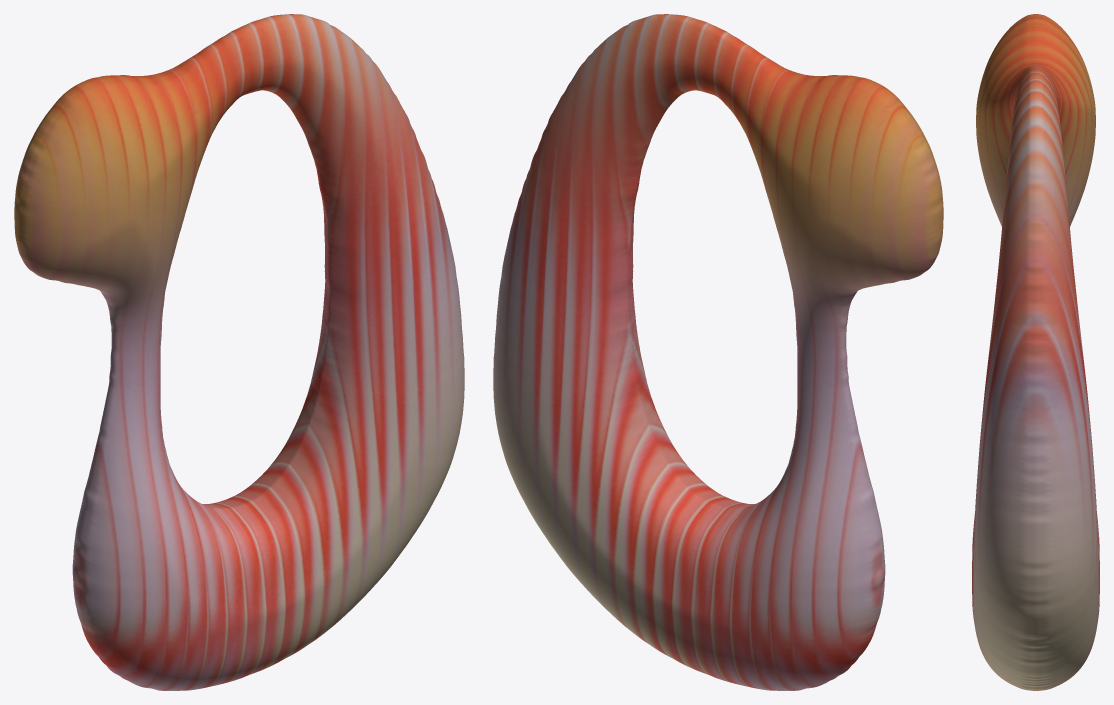
Rendered from letterO.glb.
3 renders of one model, left to right at view 1: azimuth 30°, elevation 25°; view 2: azimuth 150°, elevation 25°; view 3: azimuth 270°, elevation 25°, orthographic. The views are drawn at different scales.
Parts seen in each view (by area): view 1: Geometry; view 2: Geometry; view 3: Geometry.
Boxes of the visible parts, x1,y1,x2,y2 form: Geometry: (14, 14, 464, 690); Geometry: (493, 14, 943, 690); Geometry: (972, 14, 1099, 690).
Size of the model in its own units: 0.7101 by 1 by 0.1878.
1 material, 1 textured.
